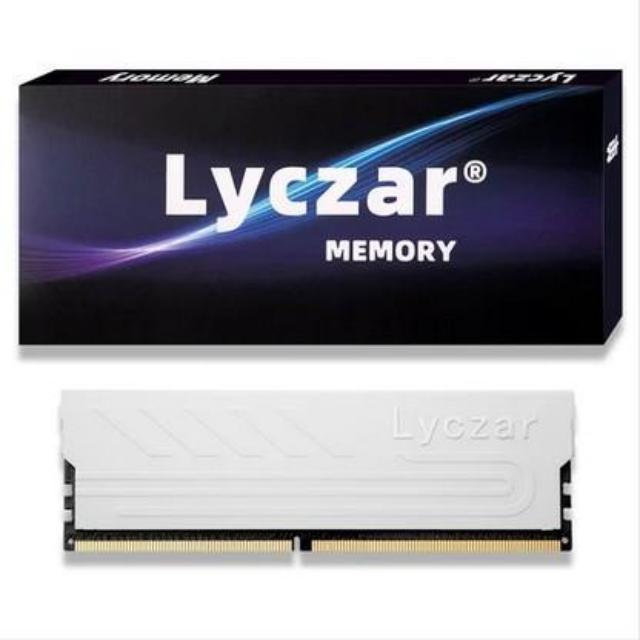RAM: (54, 394, 583, 558)
